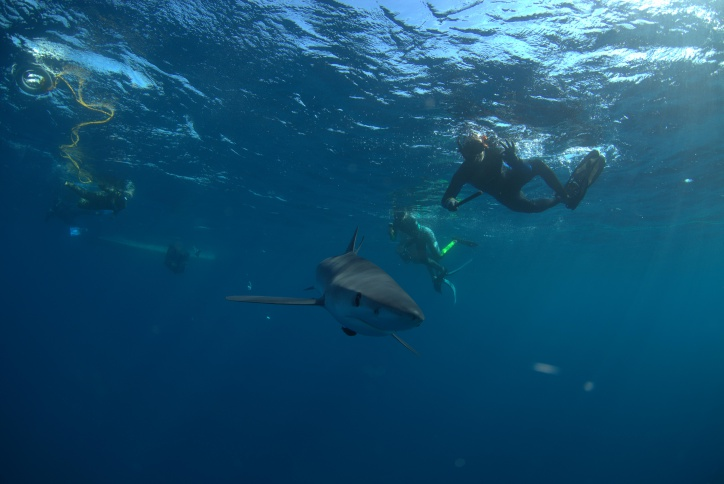Azul: (223, 216, 461, 369)
